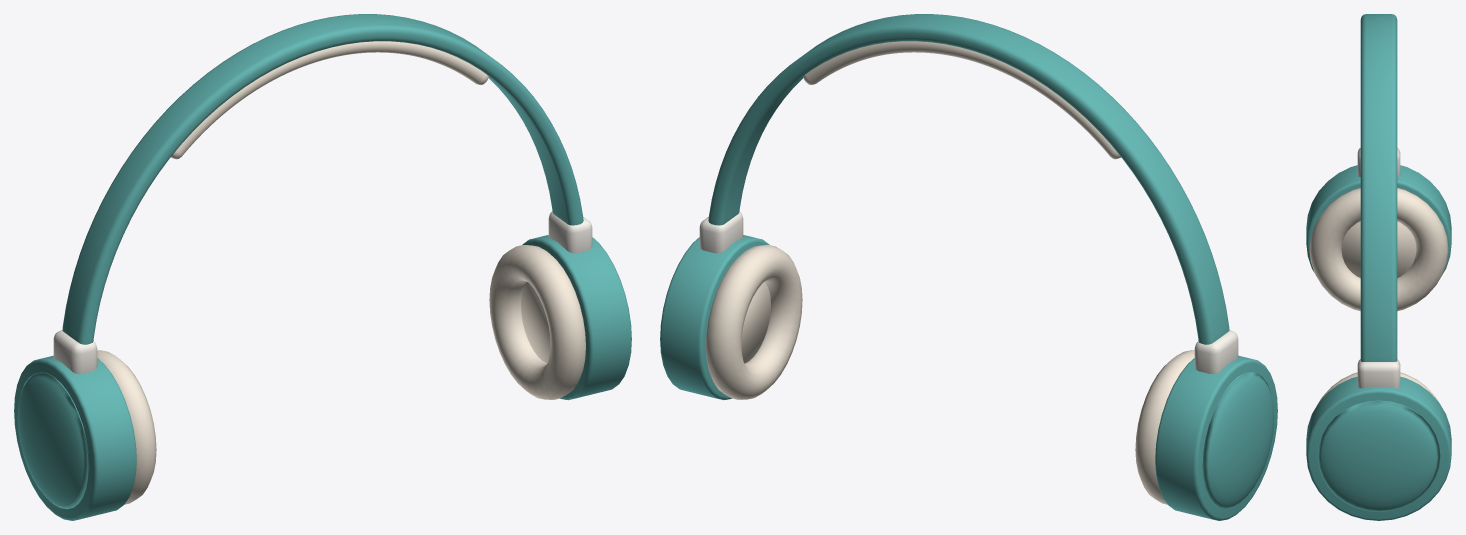
Rendered from gear_headphones.glb.
The picture shows the model from 3 angles, left to right: view 1: azimuth 30°, elevation 25°; view 2: azimuth 150°, elevation 25°; view 3: azimuth 270°, elevation 25°; orthographic projection. The views are drawn at different scales.
Visible parts, largest first — view 1: headphones-band, headphones-cup-r, headphones-cushion-l, headphones-cup-l, headphones-pad, headphones-cushion-r, headphones-cloth-l, headphones-hinge-r, headphones-hinge-l; view 2: headphones-band, headphones-cup-r, headphones-cushion-l, headphones-cup-l, headphones-pad, headphones-cushion-r, headphones-cloth-l, headphones-hinge-r, headphones-hinge-l; view 3: headphones-cup-l, headphones-band, headphones-cushion-r, headphones-cup-r, headphones-cloth-r, headphones-hinge-l, headphones-cushion-l, headphones-hinge-r.
Part boxes in pixels (x1,y1,x2,y2): headphones-band: (62, 14, 583, 344); headphones-cup-r: (14, 355, 136, 520); headphones-cushion-l: (489, 245, 585, 399); headphones-cup-l: (522, 235, 631, 400); headphones-pad: (171, 41, 488, 159); headphones-cushion-r: (97, 350, 156, 504); headphones-cloth-l: (521, 282, 550, 363); headphones-hinge-r: (53, 330, 97, 374); headphones-hinge-l: (548, 211, 592, 253); headphones-band: (708, 14, 1229, 344); headphones-cup-r: (1155, 355, 1277, 520); headphones-cushion-l: (706, 245, 802, 399); headphones-cup-l: (660, 235, 769, 400); headphones-pad: (803, 41, 1120, 159); headphones-cushion-r: (1135, 350, 1194, 504); headphones-cloth-l: (741, 282, 770, 363); headphones-hinge-r: (1194, 330, 1238, 374); headphones-hinge-l: (699, 211, 743, 253); headphones-cup-l: (1306, 376, 1451, 520); headphones-band: (1360, 14, 1397, 361); headphones-cushion-r: (1309, 188, 1448, 311); headphones-cup-r: (1306, 165, 1451, 272); headphones-cloth-r: (1341, 221, 1416, 277); headphones-hinge-l: (1357, 359, 1400, 388); headphones-cushion-l: (1319, 372, 1438, 401); headphones-hinge-r: (1357, 148, 1400, 176).
Size of the model in its own units: 2.66 by 1.91 by 0.68.
